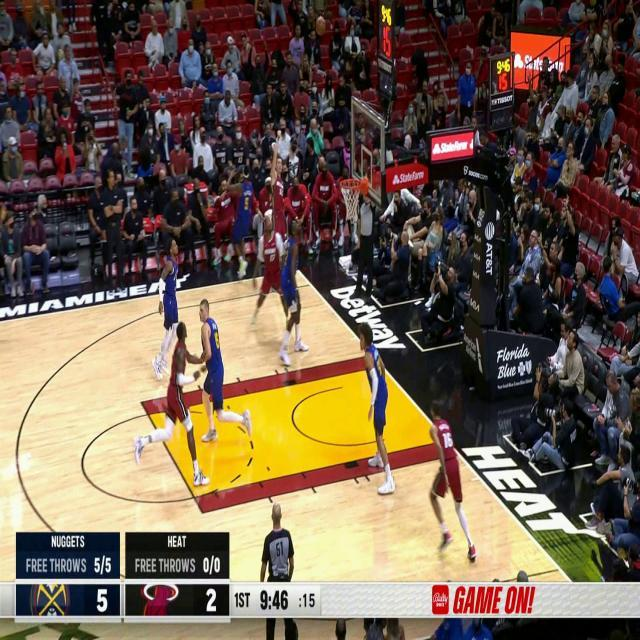rim: (316, 18, 325, 34)
